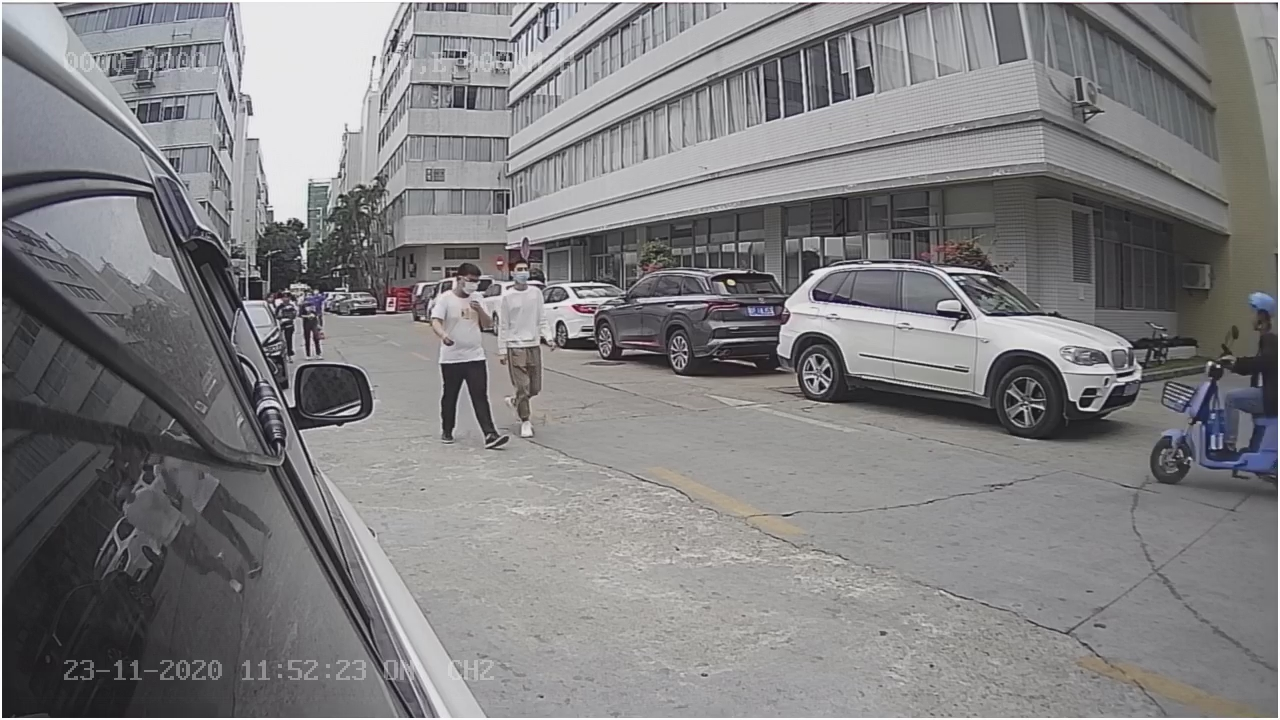person: (428, 262, 507, 445), (496, 261, 554, 429)
